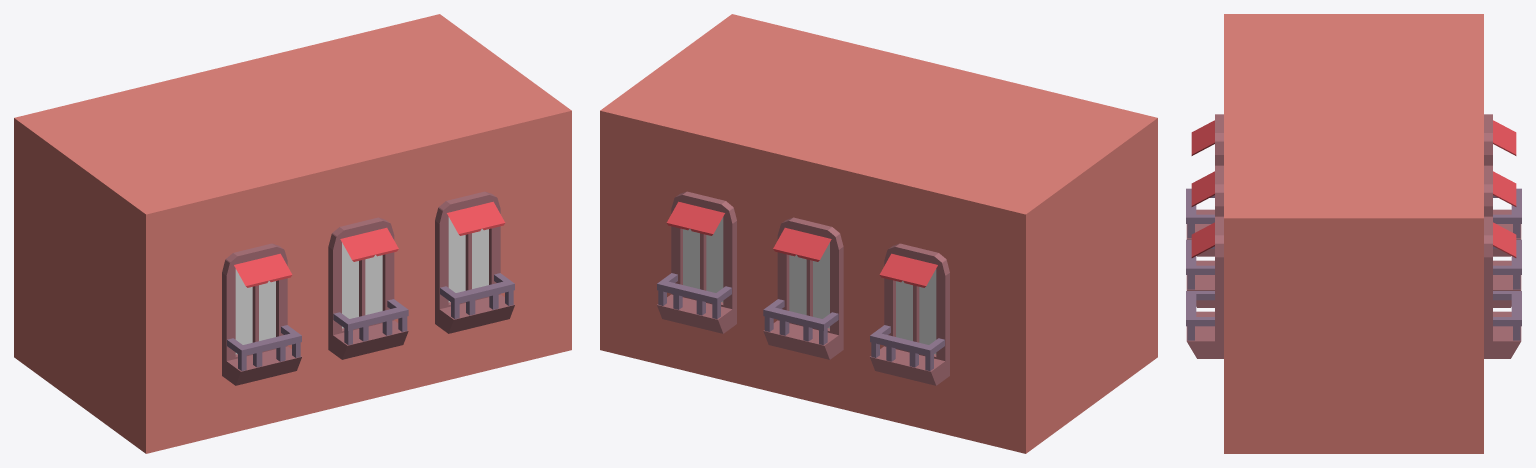
The model's file is HouseBlockFullWindows.fbx.
The picture shows the model from 3 angles, left to right: view 1: azimuth 30°, elevation 25°; view 2: azimuth 150°, elevation 25°; view 3: azimuth 270°, elevation 25°; orthographic projection.
Visible parts, largest first — view 1: HouseBlockFullWindows; view 2: HouseBlockFullWindows; view 3: HouseBlockFullWindows.
Part boxes in pixels (bbox=[...]): HouseBlockFullWindows: bbox=[14, 14, 571, 453]; HouseBlockFullWindows: bbox=[600, 14, 1157, 453]; HouseBlockFullWindows: bbox=[1186, 14, 1521, 453].
Size of the model in its own units: 1835 by 986 by 1274.
